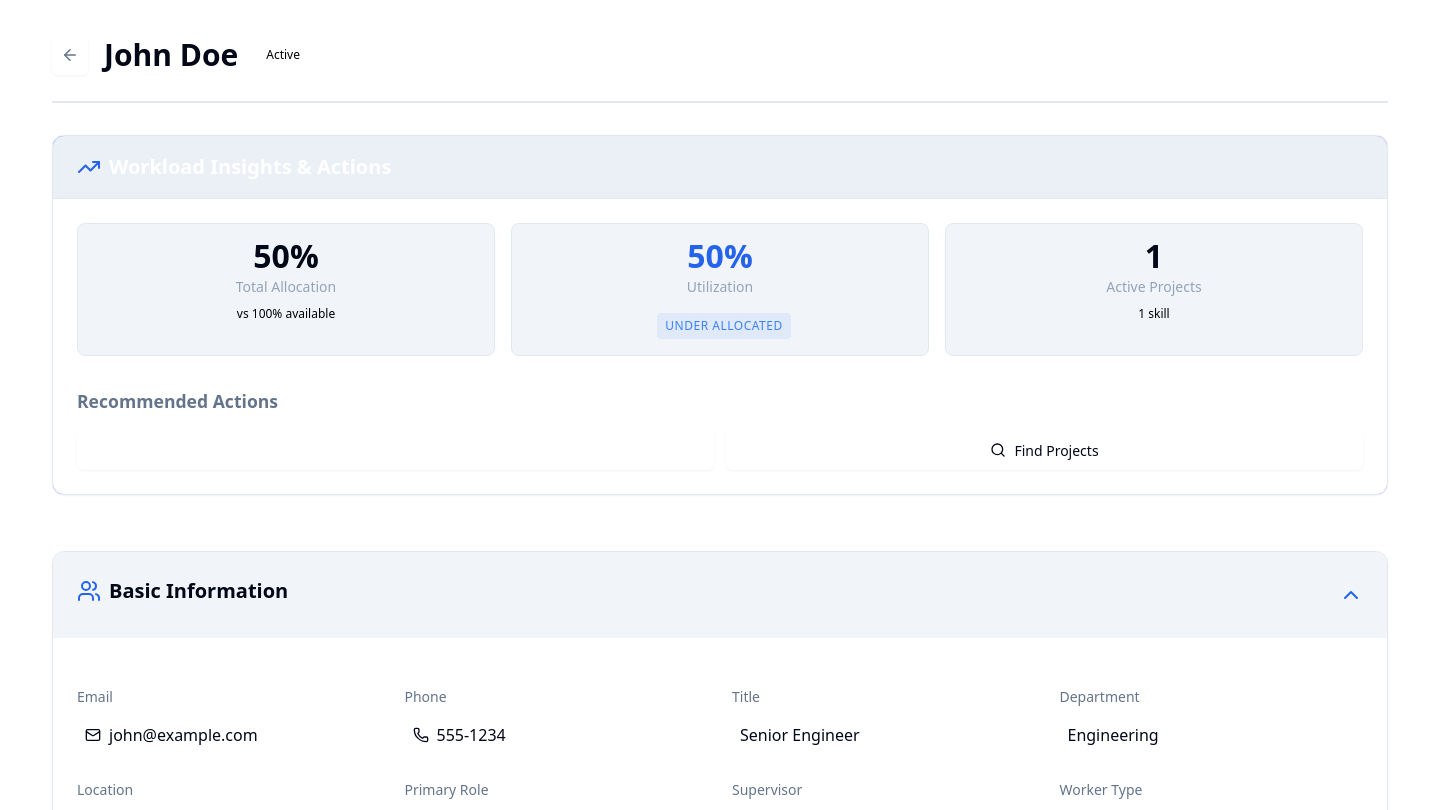
Scenario: PersonDetails › Section Expansion/Collapse › toggles basic information section
Check: the heading "Basic Information" is shown, box [77, 576, 288, 606]
Check: the text "Email" is shown, box [77, 687, 113, 706]
# Click to collapse
Click the text "Basic Information": (720, 595) [53, 552, 1387, 638]
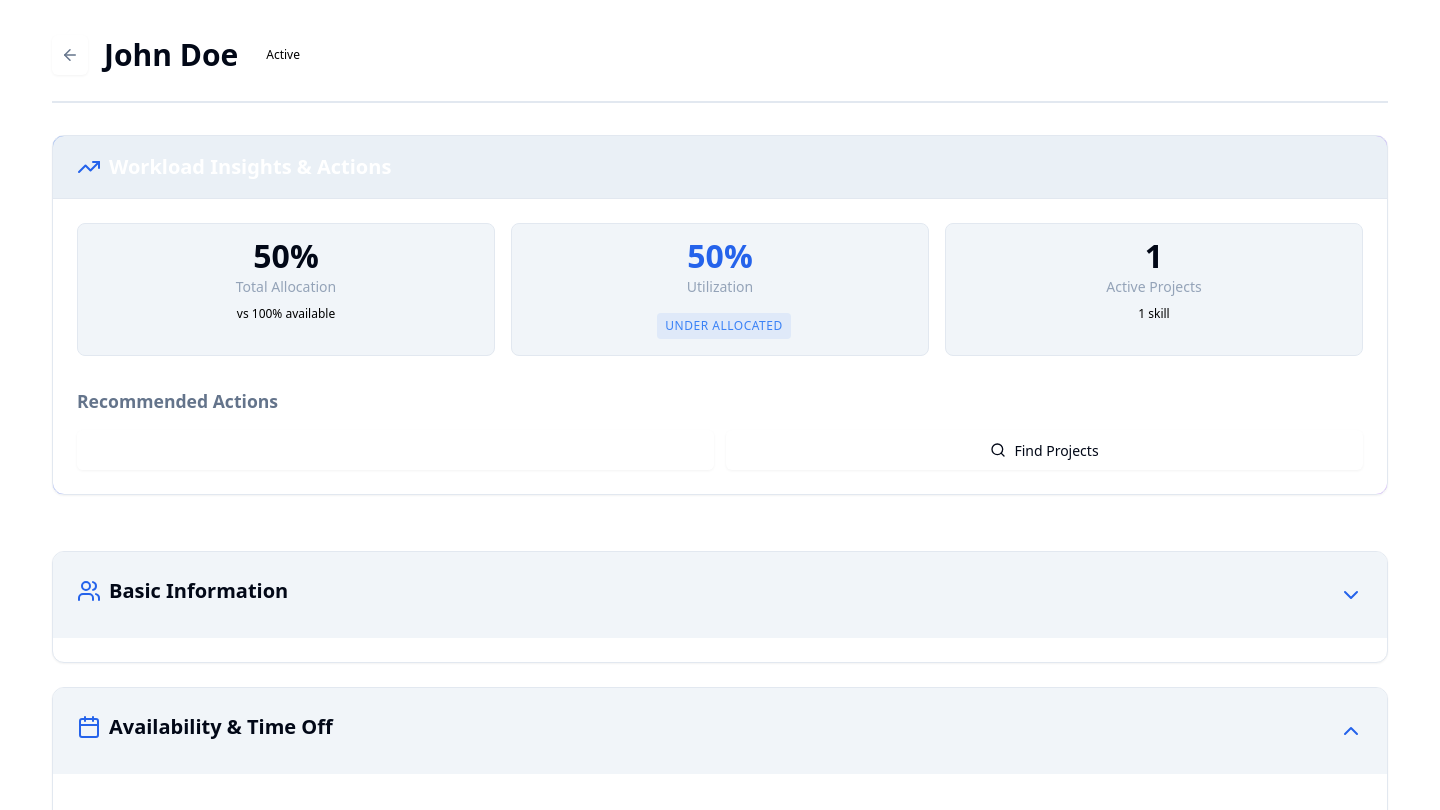
Check: the text "Email" is gone
